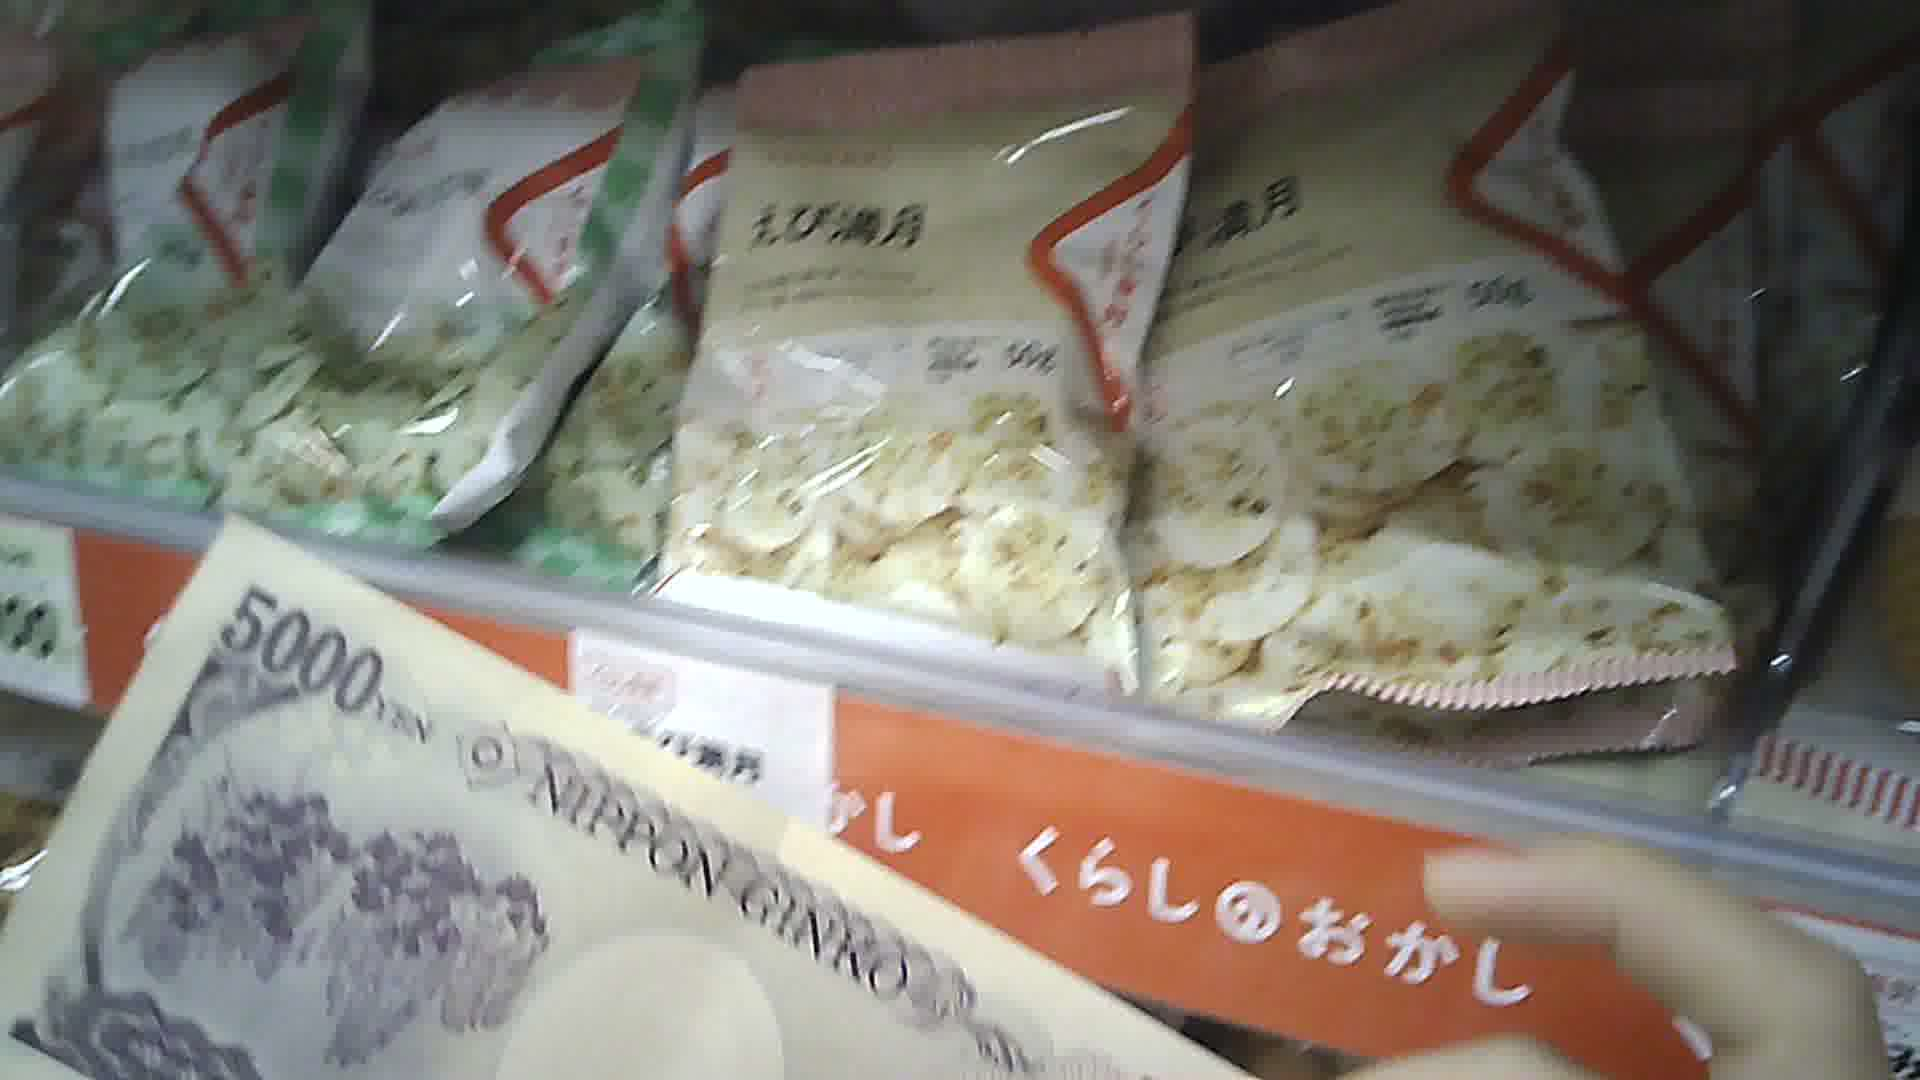5,000 Yen: (42, 514, 1179, 1079)
